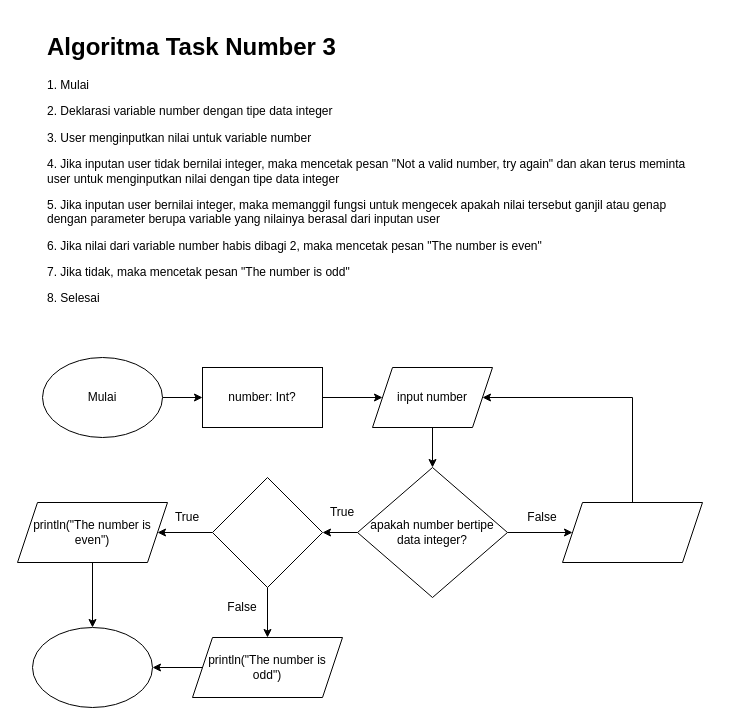
Image size: 730x725. Some labels were removed from this diagram. The shapes that lost their labels are listed below. From the top down, each one's centre as x and y in pixels, then its label:
point 267,532: number % 2 == 0 ?
point 632,532: println("Not a valid number, try again")
point 92,667: Selesai
